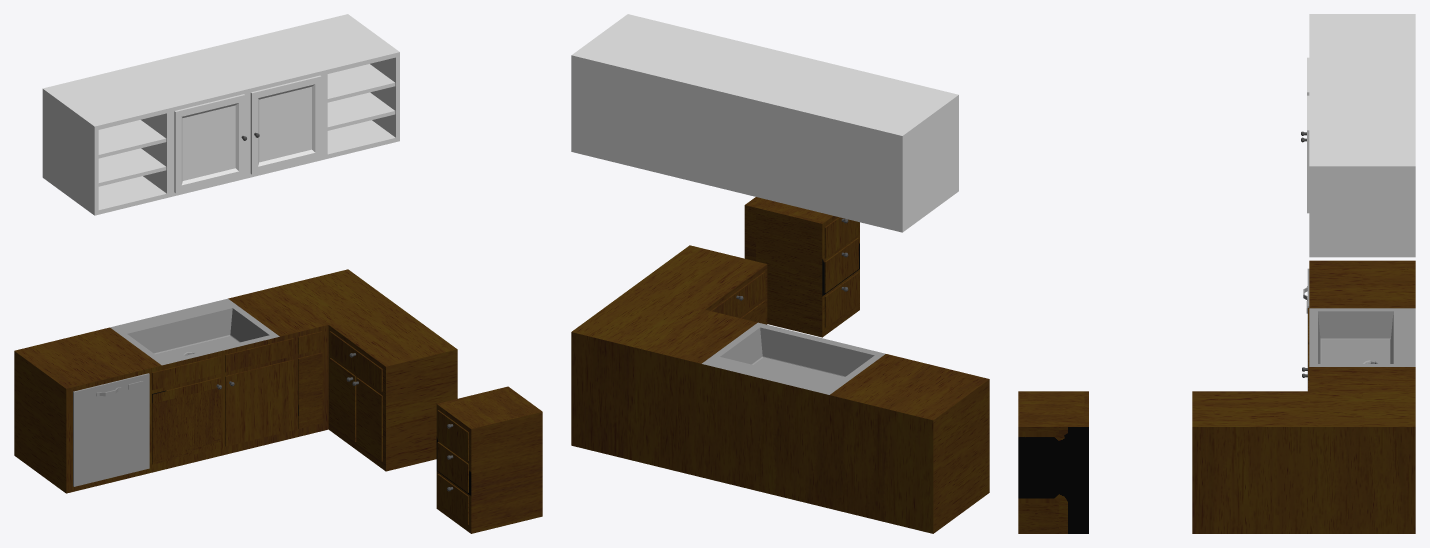
The model's file is Kitchen.fbx.
3 renders of one model, left to right at view 1: azimuth 30°, elevation 25°; view 2: azimuth 150°, elevation 25°; view 3: azimuth 270°, elevation 25°, orthographic. The views are drawn at different scales.
Visible parts, largest first — view 1: Cube.005; view 2: Cube.005; view 3: Cube.005.
Boxes of the visible parts, left/top/right/bottom form: Cube.005: left=14, top=14, right=542, bottom=533; Cube.005: left=571, top=14, right=989, bottom=533; Cube.005: left=1018, top=14, right=1415, bottom=533.
Size of the model in its own units: 1698 by 1749 by 1714.
